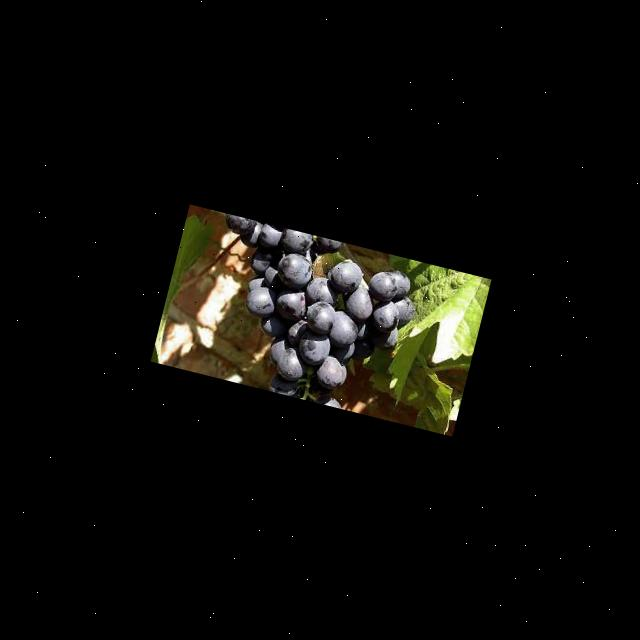grape: (188, 213, 428, 420)
